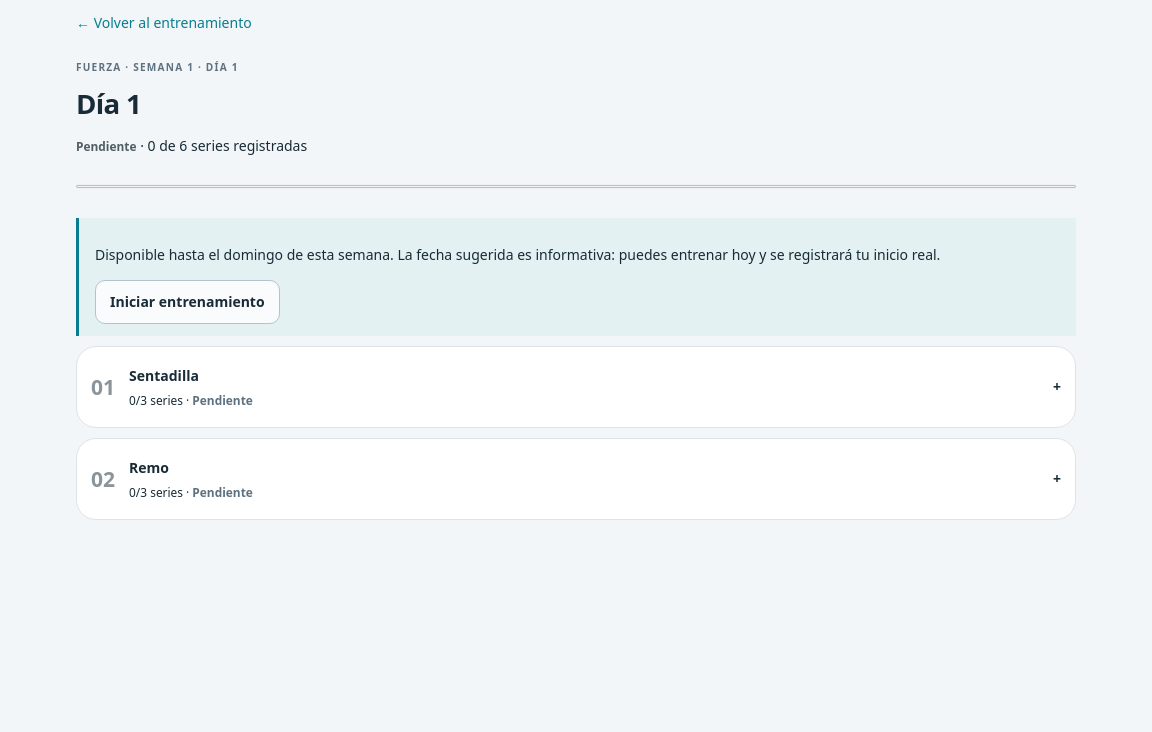
Test: Ejecución compacta y registro seguro › inicia una sesión disponible de la semana y habilita el registro
The image size is (1152, 732).
What coordinates should you click on to do the following:
click the button "Iniciar entrenamiento"
I would click on:
 (187, 302)
Its box is [95, 280, 280, 324].
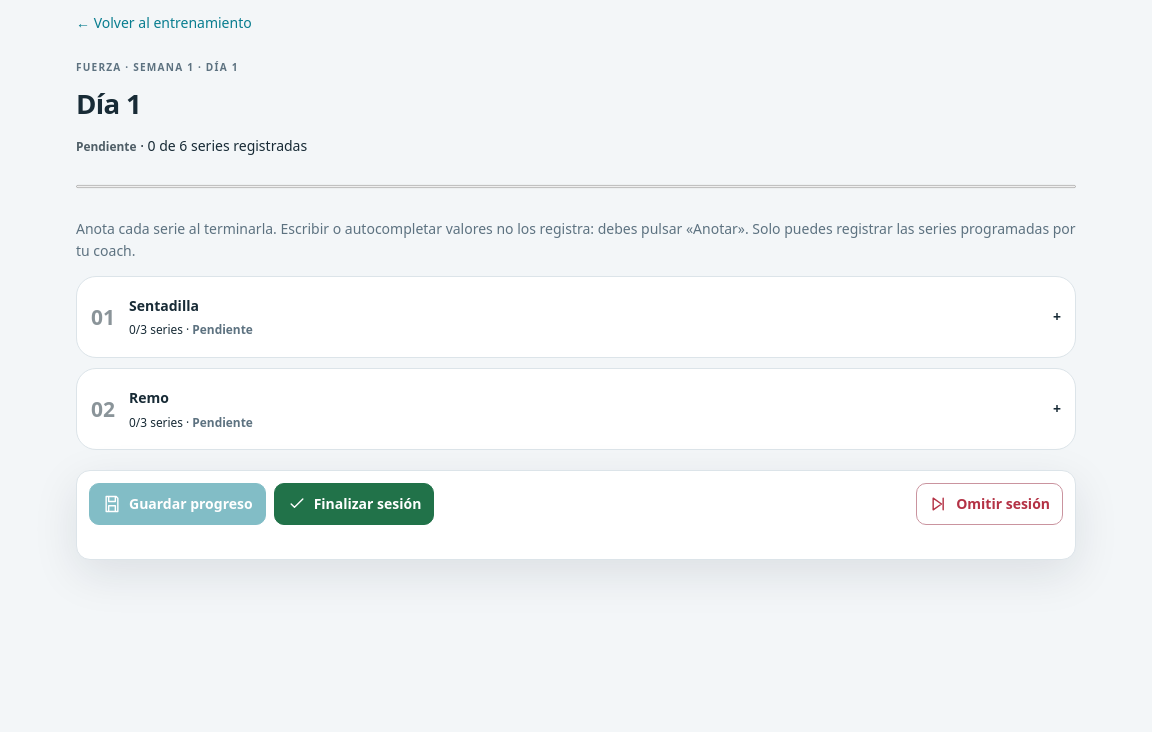
Expected: the button "Finalizar sesión" is shown, [274, 483, 434, 525]
